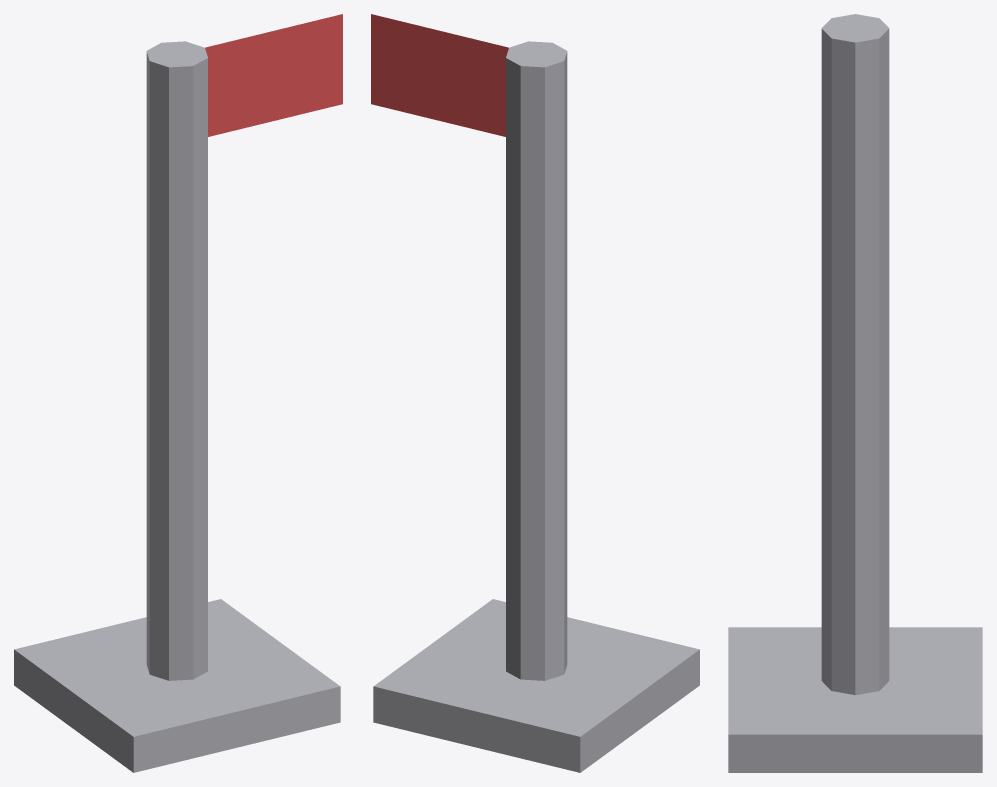
File: checkpoint_post.glb
3 renders of one model, left to right at view 1: azimuth 30°, elevation 25°; view 2: azimuth 150°, elevation 25°; view 3: azimuth 270°, elevation 25°, orthographic. The views are drawn at different scales.
Parts seen in each view (by area): view 1: Pole, Base, Pennant; view 2: Pole, Base, Pennant; view 3: Pole, Base.
Boxes of the visible parts, x1,y1,x2,y2 form: Pole: [146, 41, 207, 680]; Base: [14, 599, 340, 772]; Pennant: [205, 14, 342, 136]; Pole: [506, 41, 567, 680]; Base: [373, 599, 699, 772]; Pennant: [371, 14, 508, 136]; Pole: [821, 14, 889, 695]; Base: [728, 627, 982, 772].
Size of what is drawn, in the model's own units: 0.78 by 1.8 by 0.6.
